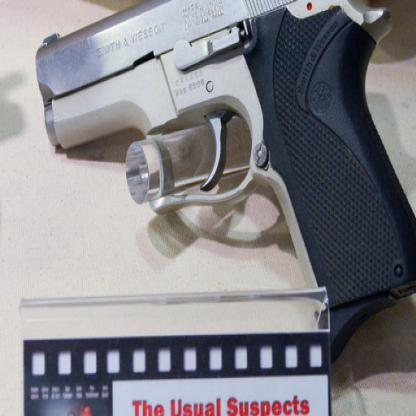gun: (38, 0, 416, 372)
